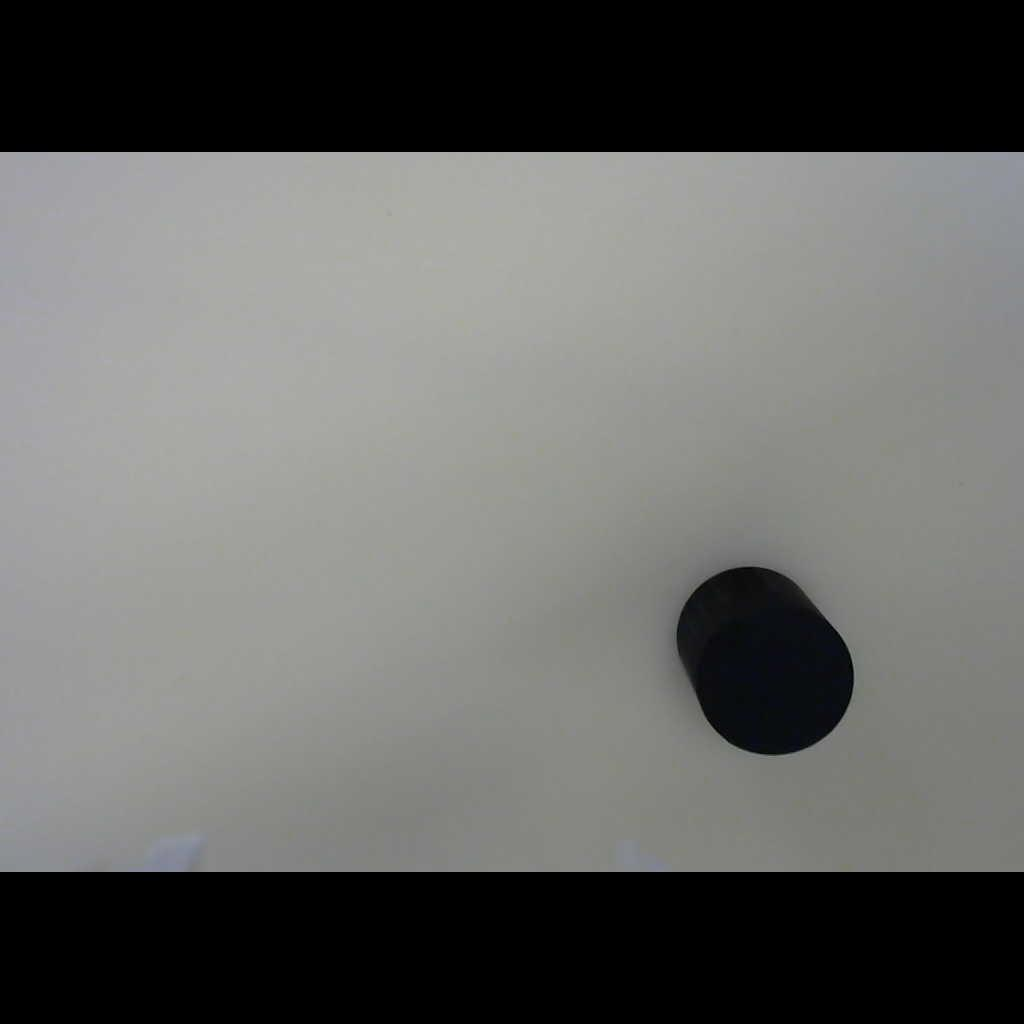circle: (669, 557, 869, 767)
